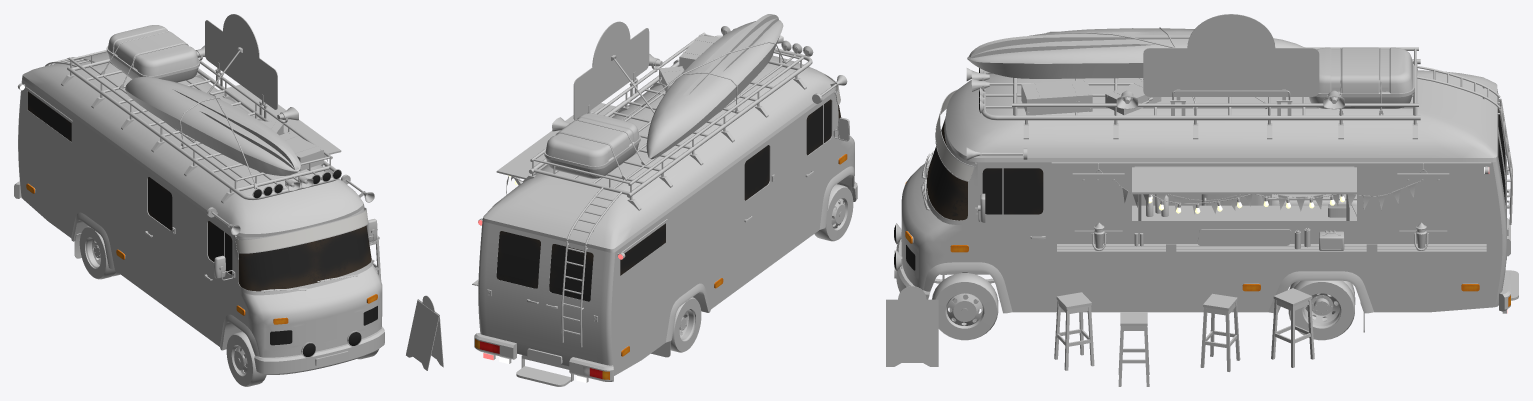
Rendered from food_truck.fbx.
3 renders of one model, left to right at view 1: azimuth 30°, elevation 25°; view 2: azimuth 150°, elevation 25°; view 3: azimuth 270°, elevation 25°, orthographic. The views are drawn at different scales.
Visible parts, largest first — view 1: Hipster_Food_Truck_Main, Hipster_Food_Truck_SideDoor, Hipster_Food_Truck_Door_R, Hipster_Food_Truck_Board, Hipster_Food_Truck_Wheel_R, Hipster_Food_Truck_WheelsRear; view 2: Hipster_Food_Truck_Main, Hipster_Food_Truck_RearDoor_L, Hipster_Food_Truck_RearDoor_R, Hipster_Food_Truck_SideDoor, Hipster_Food_Truck_Door_R, Hipster_Food_Truck_Wheel_R, Hipster_Food_Truck_WheelsRear; view 3: Hipster_Food_Truck_Main, Hipster_Food_Truck_Door_L, Hipster_Food_Truck_Board, Hipster_Food_Truck_Wheel_L, Hipster_Food_Truck_WheelsRear, Hipster_Food_Truck_Chair_1, Hipster_Food_Truck_Chair_3, Hipster_Food_Truck_Chair_4, Hipster_Food_Truck_Chair_2.
Part boxes in pixels (x1,y1,x2,y2): Hipster_Food_Truck_Main: (14, 14, 384, 374); Hipster_Food_Truck_SideDoor: (144, 168, 174, 297); Hipster_Food_Truck_Door_R: (204, 212, 234, 331); Hipster_Food_Truck_Board: (406, 295, 443, 370); Hipster_Food_Truck_Wheel_R: (226, 331, 266, 386); Hipster_Food_Truck_WheelsRear: (79, 226, 120, 279); Hipster_Food_Truck_Main: (472, 14, 857, 386); Hipster_Food_Truck_RearDoor_L: (488, 224, 546, 349); Hipster_Food_Truck_RearDoor_R: (543, 237, 599, 362); Hipster_Food_Truck_SideDoor: (741, 137, 774, 270); Hipster_Food_Truck_Door_R: (803, 92, 849, 225); Hipster_Food_Truck_Wheel_R: (814, 184, 853, 241); Hipster_Food_Truck_WheelsRear: (670, 297, 701, 352); Hipster_Food_Truck_Main: (894, 14, 1518, 332); Hipster_Food_Truck_Door_L: (976, 162, 1051, 292); Hipster_Food_Truck_Board: (886, 286, 938, 366); Hipster_Food_Truck_Wheel_L: (932, 273, 998, 340); Hipster_Food_Truck_WheelsRear: (1288, 280, 1355, 340); Hipster_Food_Truck_Chair_1: (1054, 292, 1094, 370); Hipster_Food_Truck_Chair_3: (1200, 293, 1240, 371); Hipster_Food_Truck_Chair_4: (1271, 288, 1314, 367); Hipster_Food_Truck_Chair_2: (1118, 312, 1149, 386).
Bounding box in the file's own units: 3.55 × 3.98 × 7.19.
